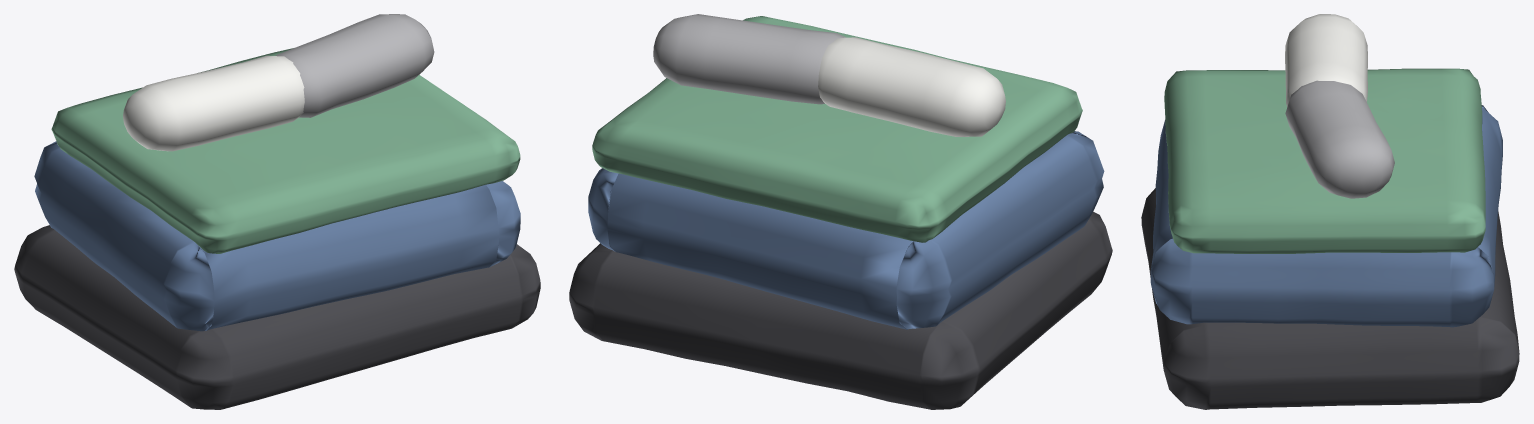
File: textiles_folded_stack_c.fbx
The picture shows the model from 3 angles, left to right: view 1: azimuth 30°, elevation 25°; view 2: azimuth 150°, elevation 25°; view 3: azimuth 270°, elevation 25°; orthographic projection. The views are drawn at different scales.
Parts seen in each view (by area): view 1: textiles_folded_stack_c; view 2: textiles_folded_stack_c; view 3: textiles_folded_stack_c.
Part boxes in pixels (x1,y1,x2,y2): textiles_folded_stack_c: (14, 14, 540, 409); textiles_folded_stack_c: (569, 14, 1112, 409); textiles_folded_stack_c: (1141, 14, 1519, 409).
Size of the model in its own units: 0.3221 by 0.2076 by 0.2756.
